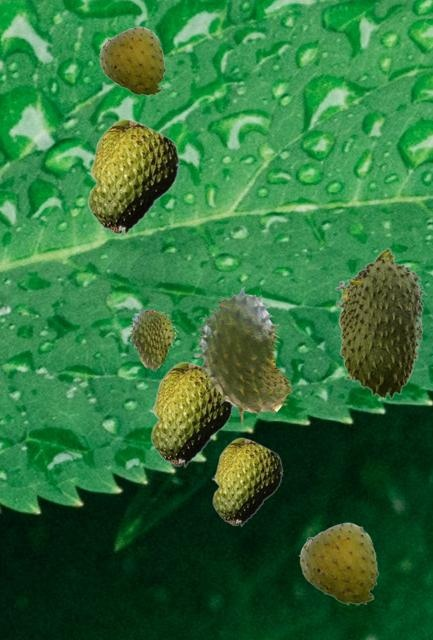guyabano: (335, 247, 426, 398), (194, 287, 291, 423), (86, 118, 179, 235), (149, 361, 233, 467), (298, 522, 378, 605), (211, 437, 282, 526), (98, 26, 165, 96), (128, 309, 177, 370)
